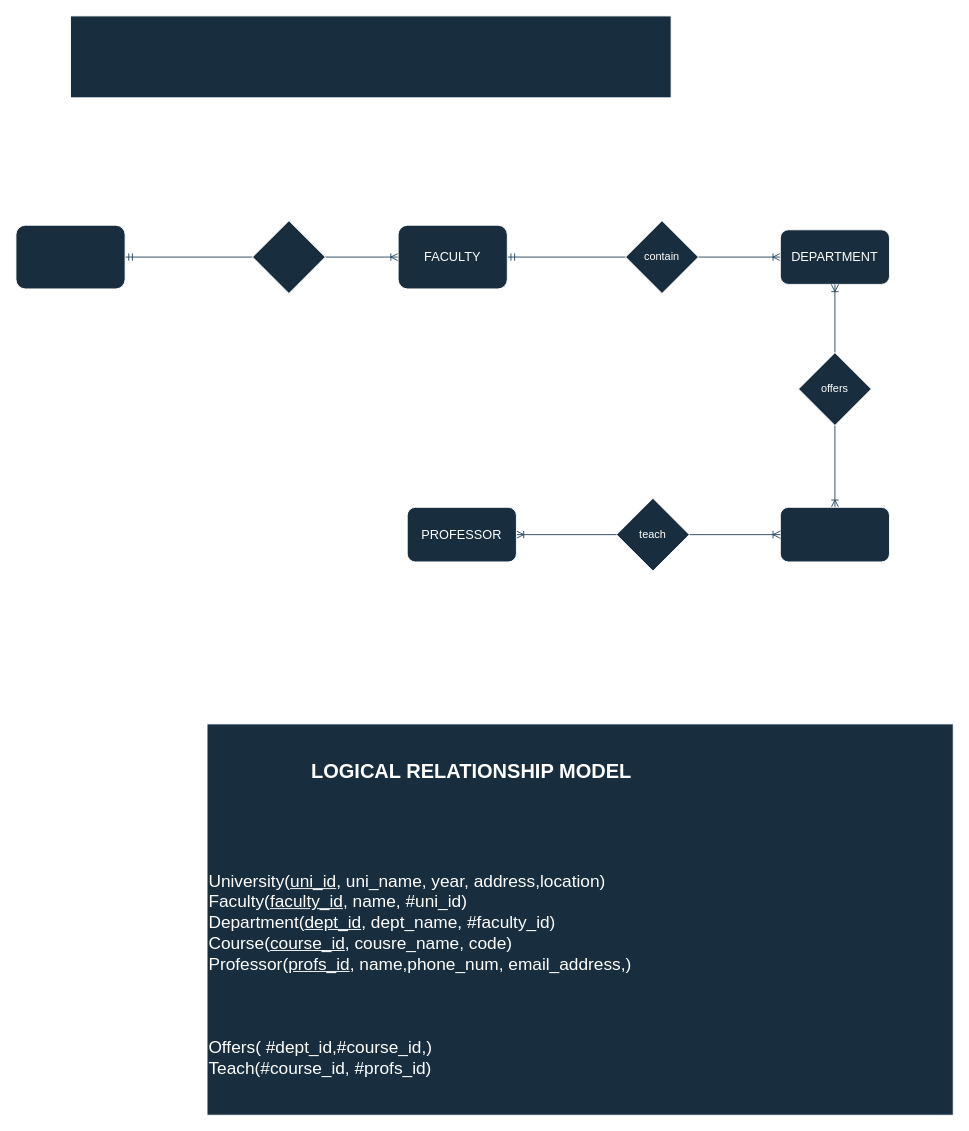
Some shapes in this 969 by 1131 pixel diagram are drawn without their labels. Here are the shapes that lost their labels. From the top down, the centre of each, then its label:
At pixel 370 56: "A UNIVERSITY CONCEPTUAL MODEL".
At pixel 70 256: "UNIVERSITY".
At pixel 834 534: "COURSE".
